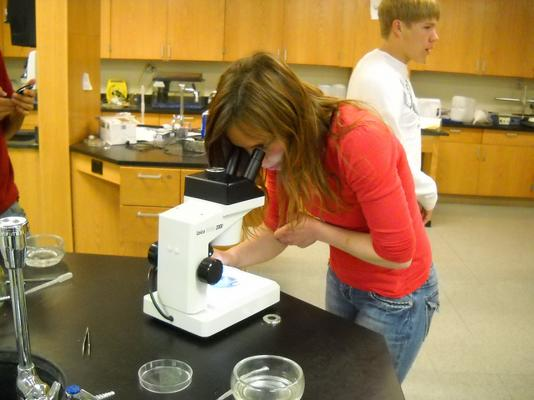person: (205, 53, 438, 386)
